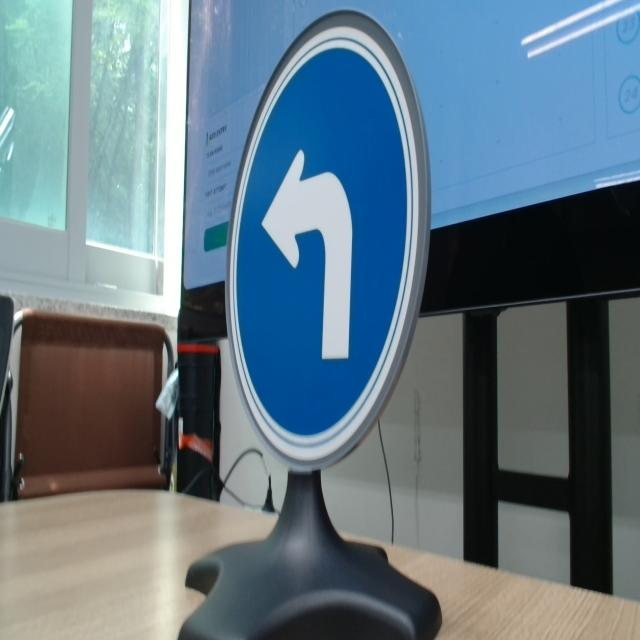left_direction: (222, 17, 434, 465)
